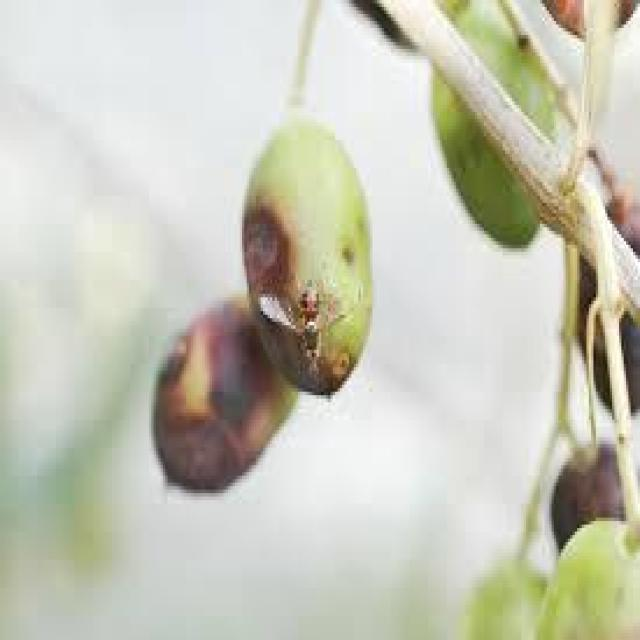Olive Fruit Fly: (242, 115, 370, 388), (154, 301, 296, 490)
